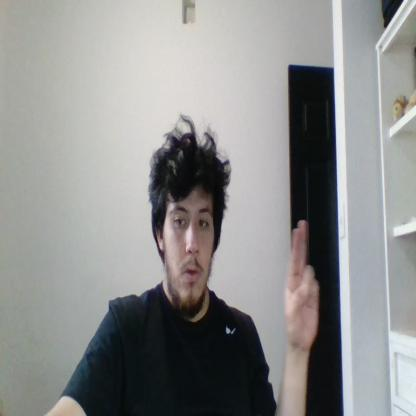U: (285, 217, 319, 347)
